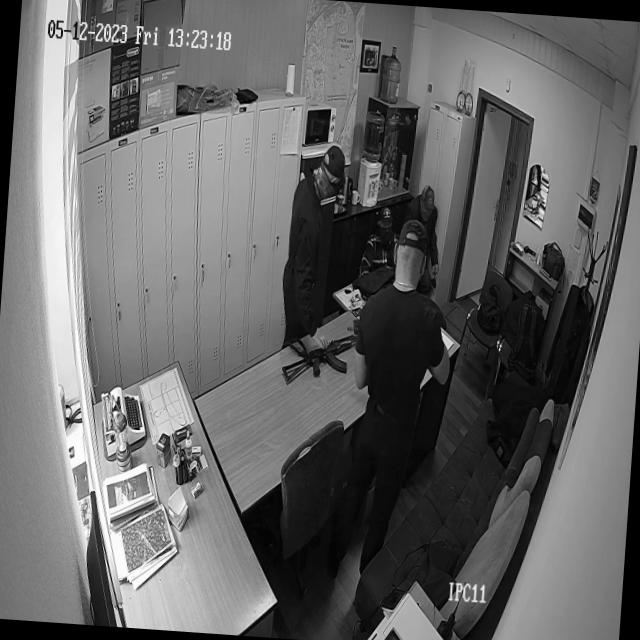gun: (280, 316, 362, 384)
person: (358, 214, 444, 584), (403, 175, 452, 240)
person with a gun: (274, 136, 370, 402)
